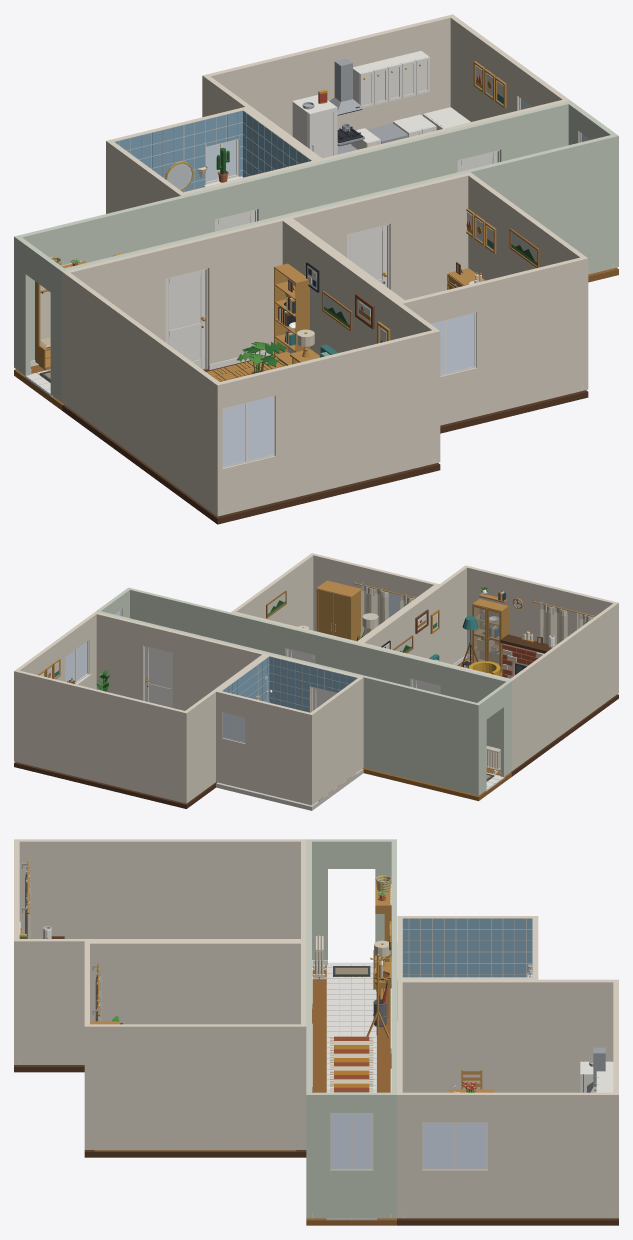
Rendered from SM_LPI_Room_FlatCompact.fbx.
3 views of the same model, one above another, from view 1: azimuth 30°, elevation 25°; view 2: azimuth 150°, elevation 25°; view 3: azimuth 270°, elevation 25° (orthographic). The views are drawn at different scales.
Visible parts, largest first — view 1: SM_LPI_Room_Living, SM_LPI_Room_Hall, SM_LPI_Room_Bedroom, SM_LPI_Room_Kitchen, SM_LPI_Room_Bathroom, SM_LPI_Open_DoorSet_01.001, SM_LPI_Room_LivingGlass, SM_LPI_Storage_Bookcase_01.001, SM_LPI_Appl_Fridge_01.001, SM_LPI_Open_DoorSet_01.002, SM_LPI_Room_BedroomGlass, SM_LPI_Storage_HallUnit_01.001 (+6 smaller); view 2: SM_LPI_Room_Kitchen, SM_LPI_Room_Hall, SM_LPI_Room_Living, SM_LPI_Room_Bathroom, SM_LPI_Room_Bedroom, SM_LPI_Storage_Wardrobe_01.001, SM_LPI_Storage_Cabinet_01.001, SM_LPI_Open_DoorSet_01.004, SM_LPI_Fire_Surround_01.001, SM_LPI_Text_Curtain_01.001, SM_LPI_Text_Curtain_01.002, SM_LPI_Room_KitchenGlass (+1 smaller); view 3: SM_LPI_Room_Kitchen, SM_LPI_Room_Bedroom, SM_LPI_Room_Living, SM_LPI_Room_Hall, SM_LPI_Room_Bathroom, SM_LPI_Room_KitchenGlass, SM_LPI_Text_RugRunner_01.001, SM_LPI_Room_HallGlass, SM_LPI_Struct_Floor_06.002, SM_LPI_Struct_Floor_06.003, SM_LPI_Storage_HallUnit_01.001, SM_LPI_Struct_Floor_06.004 (+2 smaller).
Boxes of the visible parts, bbox=[...] form: SM_LPI_Room_Living: bbox=[62, 217, 440, 524]; SM_LPI_Room_Hall: bbox=[14, 100, 618, 410]; SM_LPI_Room_Bedroom: bbox=[285, 172, 588, 433]; SM_LPI_Room_Kitchen: bbox=[202, 14, 570, 161]; SM_LPI_Room_Bathroom: bbox=[106, 107, 319, 213]; SM_LPI_Open_DoorSet_01.001: bbox=[165, 268, 207, 369]; SM_LPI_Room_LivingGlass: bbox=[222, 397, 273, 466]; SM_LPI_Storage_Bookcase_01.001: bbox=[274, 263, 309, 365]; SM_LPI_Appl_Fridge_01.001: bbox=[292, 95, 337, 158]; SM_LPI_Open_DoorSet_01.002: bbox=[347, 224, 389, 288]; SM_LPI_Room_BedroomGlass: bbox=[431, 313, 474, 374]; SM_LPI_Storage_HallUnit_01.001: bbox=[35, 260, 86, 370]; SM_LPI_Room_Kitchen: bbox=[14, 612, 266, 808]; SM_LPI_Room_Hall: bbox=[95, 587, 511, 801]; SM_LPI_Room_Living: bbox=[359, 565, 618, 776]; SM_LPI_Room_Bathroom: bbox=[216, 654, 363, 810]; SM_LPI_Room_Bedroom: bbox=[231, 553, 439, 643]; SM_LPI_Storage_Wardrobe_01.001: bbox=[316, 580, 361, 640]; SM_LPI_Storage_Cabinet_01.001: bbox=[472, 599, 508, 672]; SM_LPI_Open_DoorSet_01.004: bbox=[143, 646, 172, 707]; SM_LPI_Fire_Surround_01.001: bbox=[500, 634, 552, 678]; SM_LPI_Text_Curtain_01.001: bbox=[533, 601, 595, 645]; SM_LPI_Text_Curtain_01.002: bbox=[354, 582, 415, 637]; SM_LPI_Room_KitchenGlass: bbox=[65, 641, 86, 682]; SM_LPI_Room_Kitchen: bbox=[397, 979, 618, 1225]; SM_LPI_Room_Bedroom: bbox=[84, 941, 306, 1157]; SM_LPI_Room_Living: bbox=[14, 839, 306, 1072]; SM_LPI_Room_Hall: bbox=[306, 839, 396, 1225]; SM_LPI_Room_Bathroom: bbox=[397, 916, 538, 1019]; SM_LPI_Room_KitchenGlass: bbox=[424, 1123, 486, 1168]; SM_LPI_Text_RugRunner_01.001: bbox=[330, 1036, 373, 1092]; SM_LPI_Room_HallGlass: bbox=[332, 1114, 371, 1168]; SM_LPI_Struct_Floor_06.002: bbox=[326, 984, 376, 1005]; SM_LPI_Struct_Floor_06.003: bbox=[326, 1005, 375, 1027]; SM_LPI_Storage_HallUnit_01.001: bbox=[373, 883, 391, 991]; SM_LPI_Struct_Floor_06.004: bbox=[326, 1026, 376, 1048].
Bounding box in the file's own units: 12 × 2.87 × 12.
